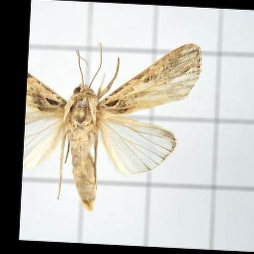Spodoptera litura: (24, 38, 198, 211)
